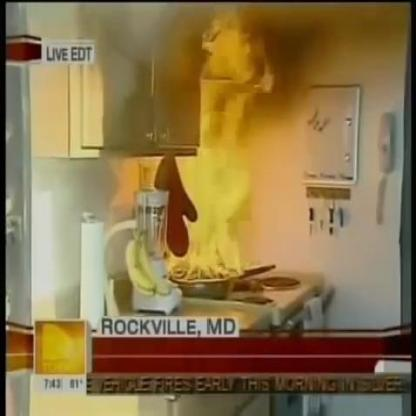fire: (166, 7, 274, 280)
